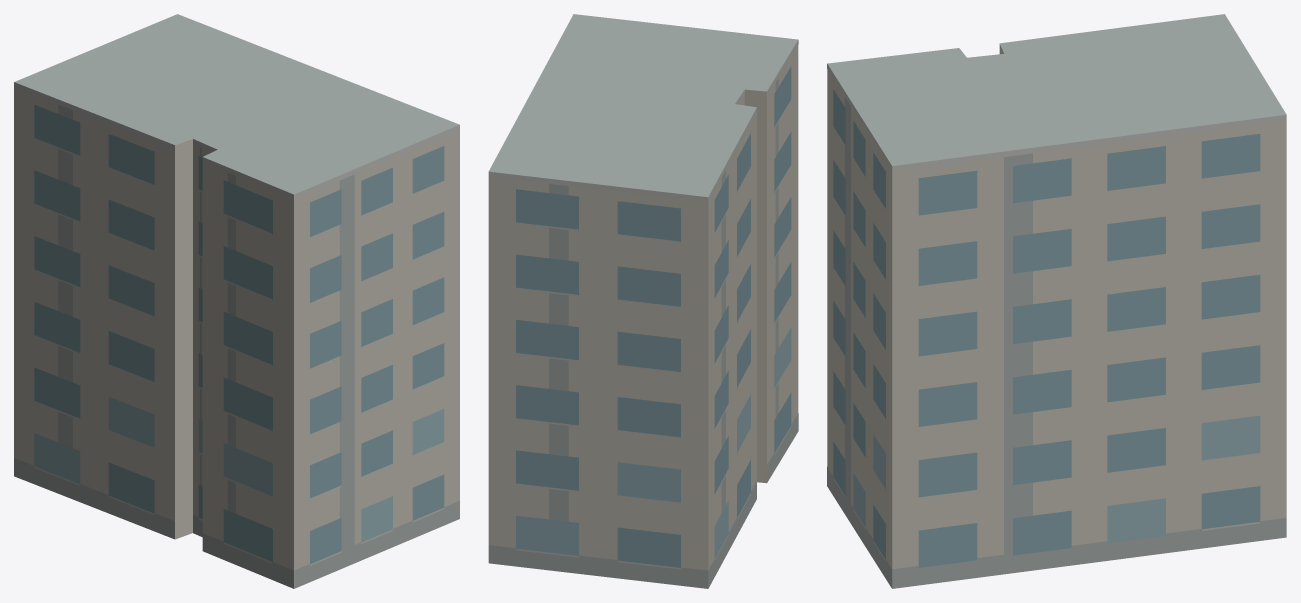
Rendered from survey-upis-32561526.glb.
3 views of the same model, side by side, from view 1: azimuth 30°, elevation 25°; view 2: azimuth 150°, elevation 25°; view 3: azimuth 270°, elevation 25° (orthographic). The views are drawn at different scales.
Visible parts, largest first — view 1: survey-upis-32561526.tmp; view 2: survey-upis-32561526.tmp; view 3: survey-upis-32561526.tmp.
Boxes of the visible parts, box(x1,y1,x2,y2) form: survey-upis-32561526.tmp: box(14, 14, 459, 588); survey-upis-32561526.tmp: box(488, 14, 798, 588); survey-upis-32561526.tmp: box(827, 14, 1286, 588).
Size of the model in its own units: 14.13 by 18.3 by 18.03.
